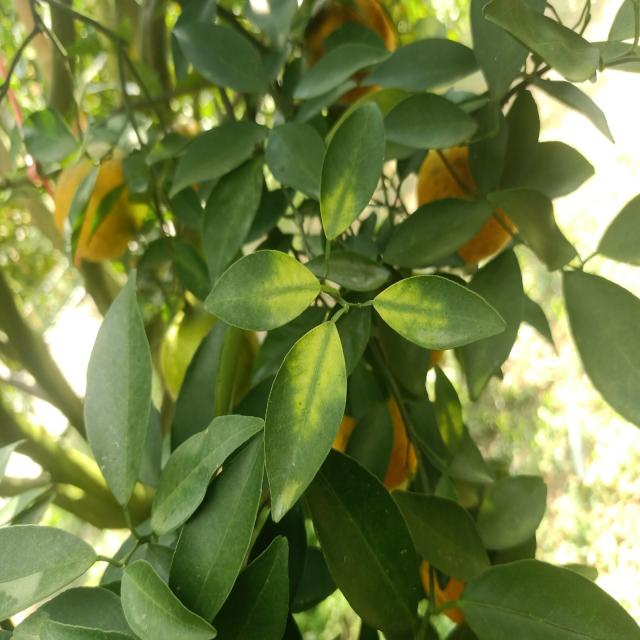blackspot: (258, 332, 350, 502), (210, 244, 332, 334), (386, 273, 492, 352)
